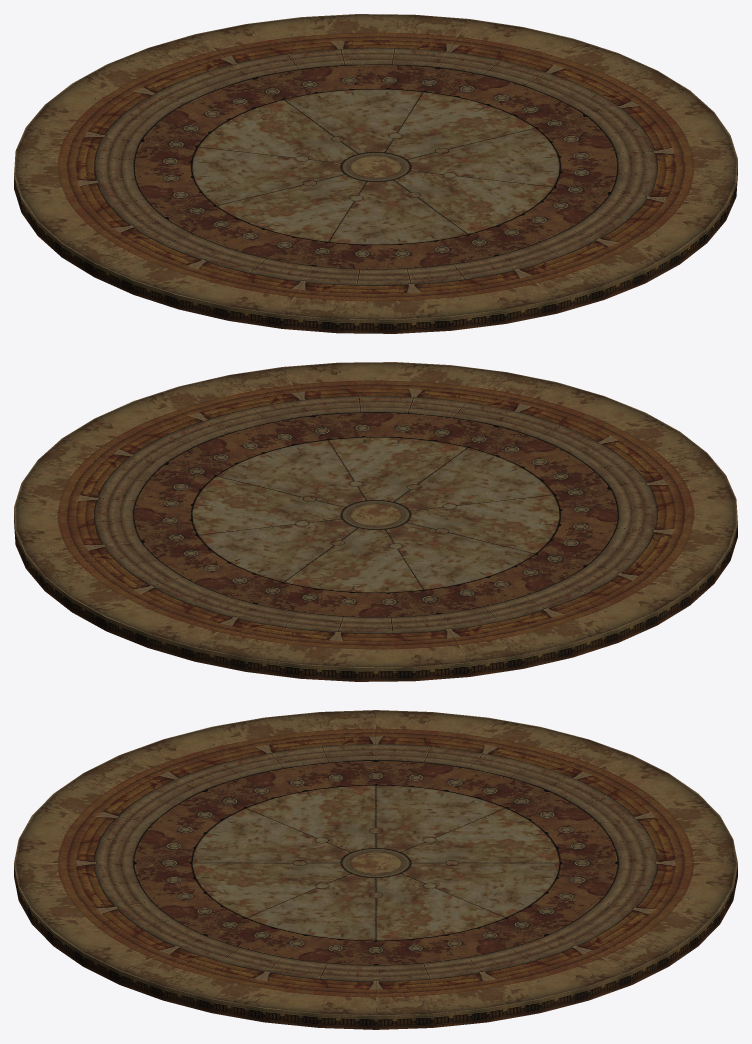
3 views of the same model, one above another, from view 1: azimuth 30°, elevation 25°; view 2: azimuth 150°, elevation 25°; view 3: azimuth 270°, elevation 25° (orthographic).
Visible parts, largest first — view 1: d2az-boss1.033, d2az-boss1.034; view 2: d2az-boss1.033, d2az-boss1.034; view 3: d2az-boss1.033, d2az-boss1.034.
Boxes of the visible parts, x1,y1,x2,y2 form: d2az-boss1.033: (14,14,737,319); d2az-boss1.034: (14,89,737,333); d2az-boss1.033: (14,362,737,667); d2az-boss1.034: (14,437,737,681); d2az-boss1.033: (14,710,737,1015); d2az-boss1.034: (14,785,737,1029).
Size of the model in its own units: 48.31 by 1.09 by 48.31.
Materials: 2 (2 with a texture image).
